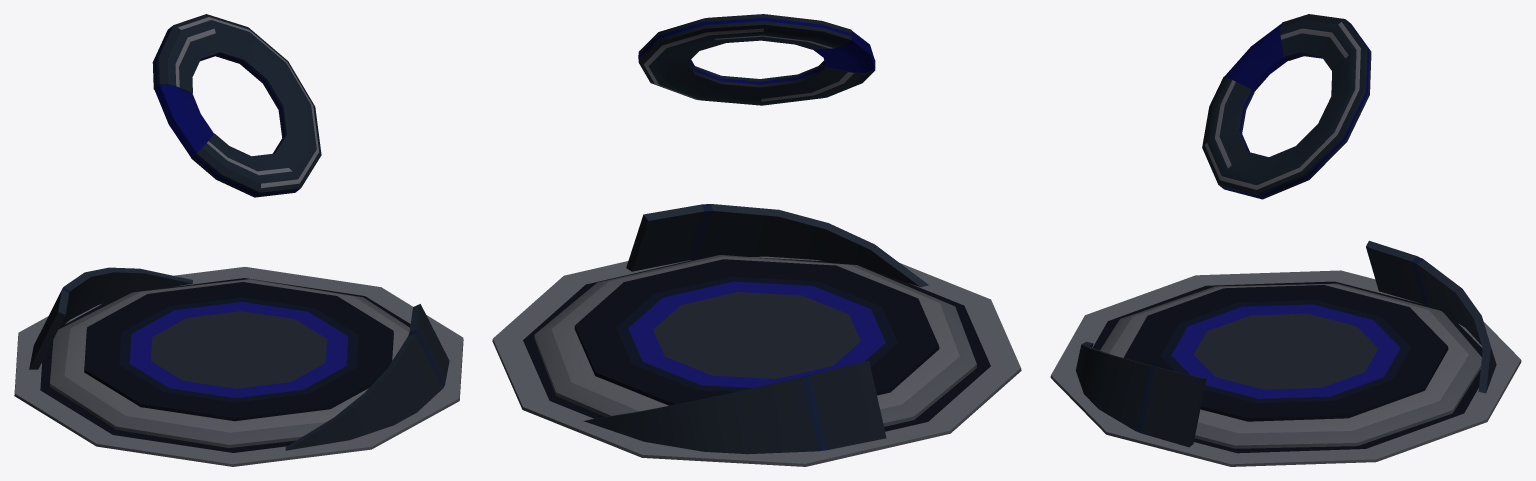
The model's file is W_O_Landmark_001_L3.fbx.
3 renders of one model, left to right at view 1: azimuth 30°, elevation 25°; view 2: azimuth 150°, elevation 25°; view 3: azimuth 270°, elevation 25°, orthographic. The views are drawn at different scales.
Visible parts, largest first — view 1: W_O_Landmark_001_L3; view 2: W_O_Landmark_001_L3; view 3: W_O_Landmark_001_L3.
Part boxes in pixels (left/top/right/bottom): W_O_Landmark_001_L3: left=14, top=14, right=463, bottom=466; W_O_Landmark_001_L3: left=492, top=14, right=1021, bottom=466; W_O_Landmark_001_L3: left=1050, top=14, right=1521, bottom=466.
Size of the model in its own units: 8.23 by 8.44 by 6.59.
